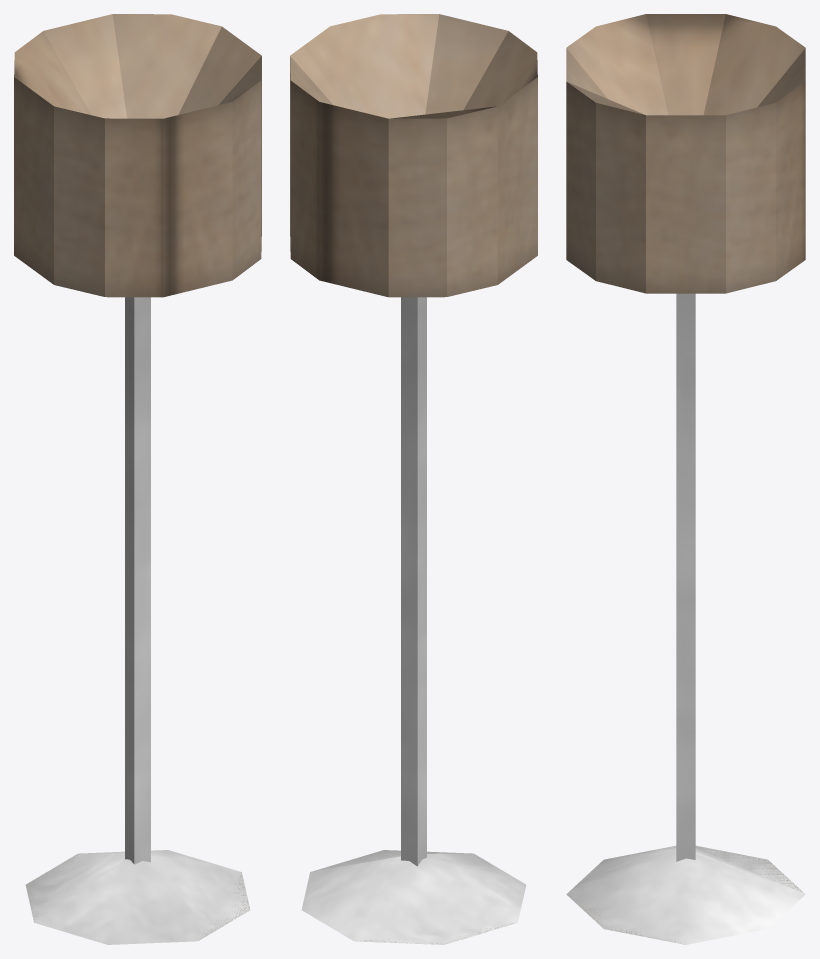
The model's file is Tall_Lamp.fbx.
3 views of the same model, side by side, from view 1: azimuth 30°, elevation 25°; view 2: azimuth 150°, elevation 25°; view 3: azimuth 270°, elevation 25° (orthographic).
Visible parts, largest first — view 1: Tall_Lamp; view 2: Tall_Lamp; view 3: Tall_Lamp.
Part boxes in pixels (box(x1,y1,x2,y2)): Tall_Lamp: box(14, 14, 261, 944); Tall_Lamp: box(290, 14, 537, 944); Tall_Lamp: box(566, 14, 805, 944).
Size of the model in its own units: 43.85 by 168 by 43.85.
